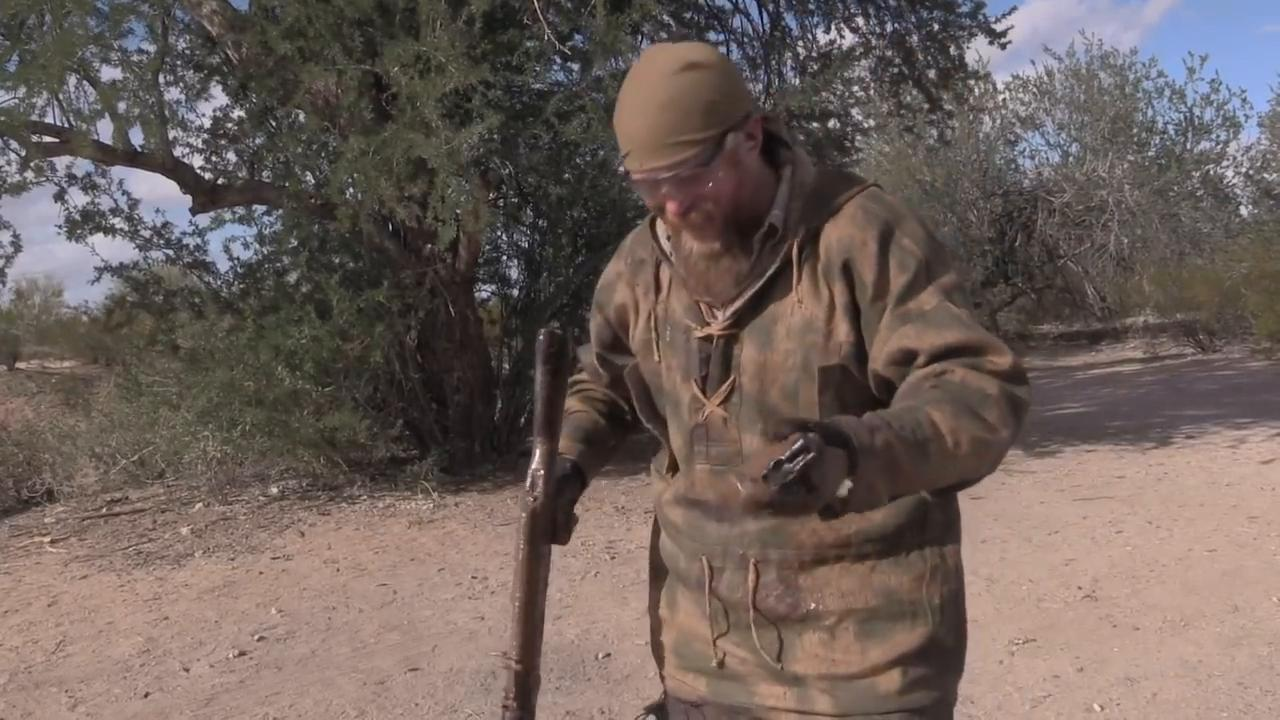AK47 Rifle: (493, 330, 573, 718)
